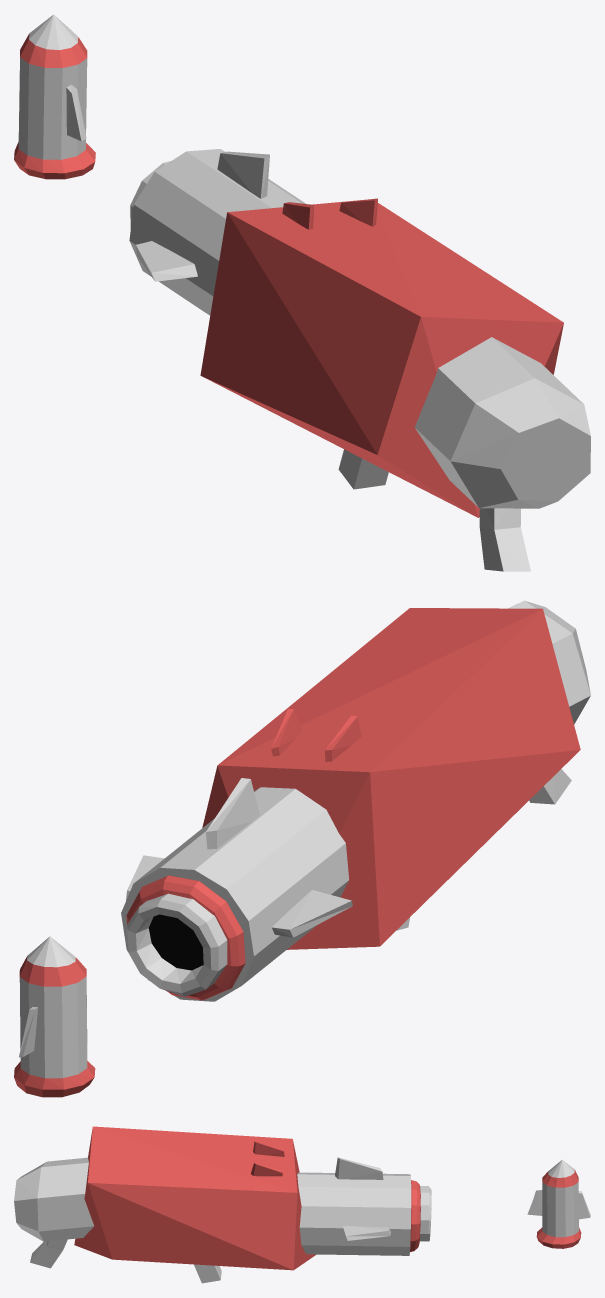
3 views of the same model, one above another, from view 1: azimuth 30°, elevation 25°; view 2: azimuth 150°, elevation 25°; view 3: azimuth 270°, elevation 25° (orthographic). The views are drawn at different scales.
Parts seen in each view (by area): view 1: launcher, missile; view 2: launcher, missile; view 3: launcher, missile.
Boxes of the visible parts, x1=… form: launcher: x1=129, y1=149, x2=590, y2=571; missile: x1=14, y1=14, x2=95, y2=179; launcher: x1=121, y1=600, x2=590, y2=1001; missile: x1=14, y1=936, x2=95, y2=1097; launcher: x1=14, y1=1126, x2=431, y2=1283; missile: x1=527, y1=1159, x2=590, y2=1248.
Bounding box in the file's own units: 40.74 × 47.25 × 177.
